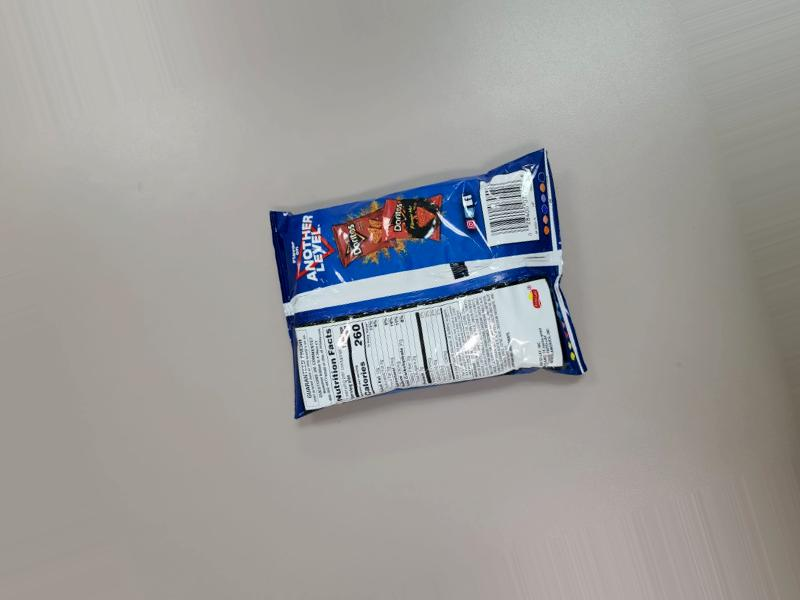doritos: (296, 138, 597, 446)
